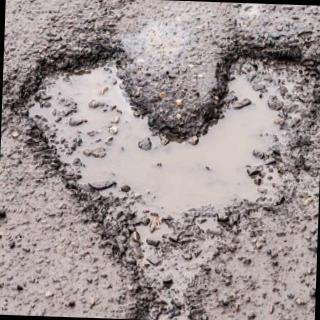pothole: (11, 43, 320, 320)
